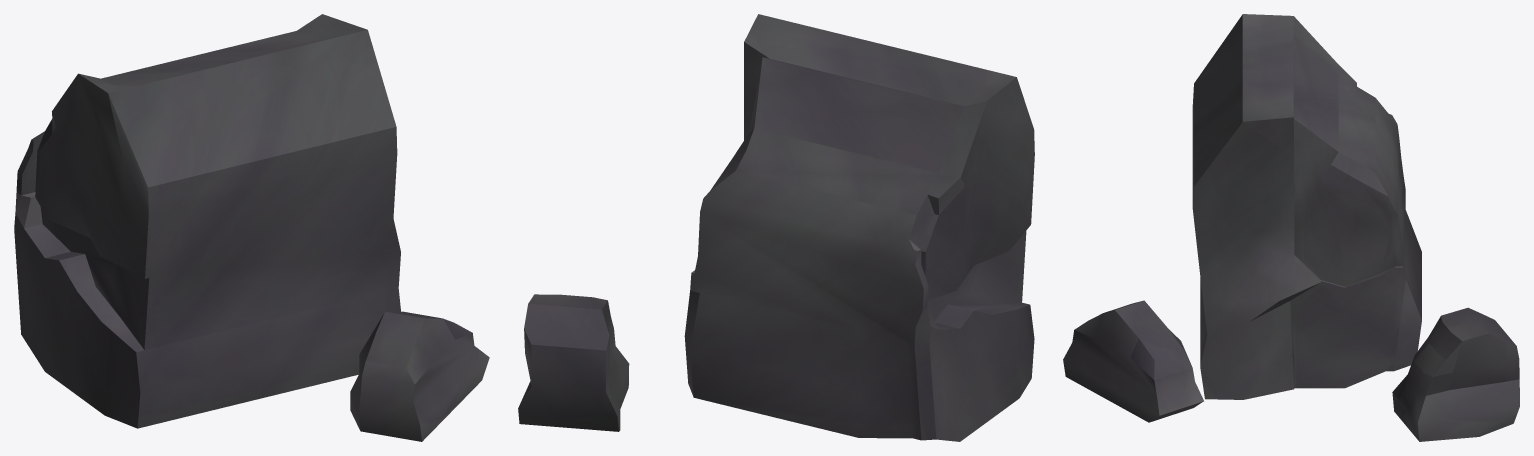
The model's file is batu1.fbx.
3 views of the same model, side by side, from view 1: azimuth 30°, elevation 25°; view 2: azimuth 150°, elevation 25°; view 3: azimuth 270°, elevation 25° (orthographic). The views are drawn at different scales.
Visible parts, largest first — view 1: batu6; view 2: batu6; view 3: batu6.
Boxes of the visible parts, <box> form: batu6: <box>14,14,489,441</box>; batu6: <box>518,14,1034,441</box>; batu6: <box>1063,14,1519,441</box>.
Size of the model in its own units: 365 by 299 by 448.
